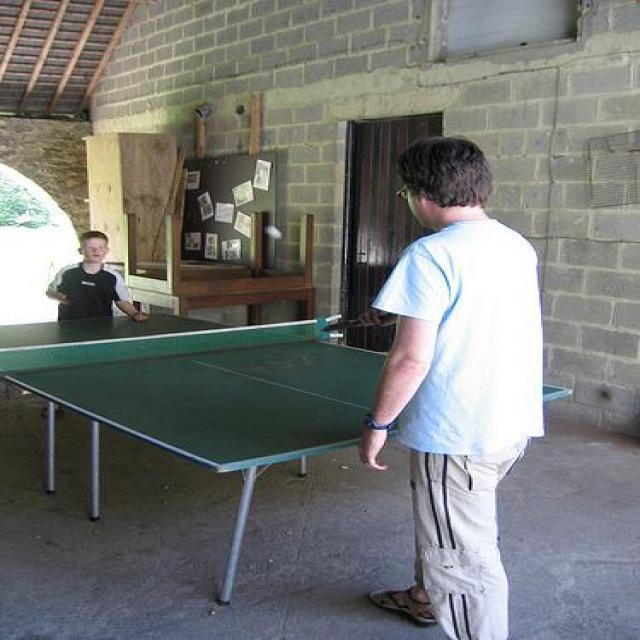ping-pong-ball: (265, 224, 283, 240)
